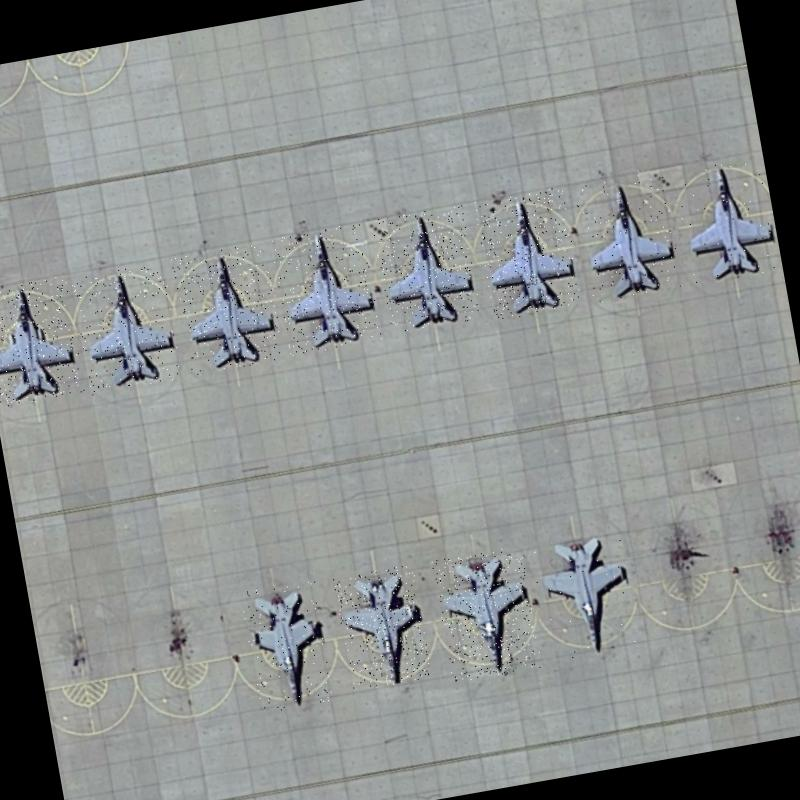A16: (530, 526, 644, 664), (171, 242, 285, 376), (432, 545, 542, 683), (71, 262, 184, 396), (270, 222, 382, 356), (474, 186, 584, 322), (371, 204, 482, 336), (574, 171, 684, 304), (674, 156, 782, 286), (240, 580, 337, 714), (333, 564, 433, 692), (0, 275, 86, 409)
